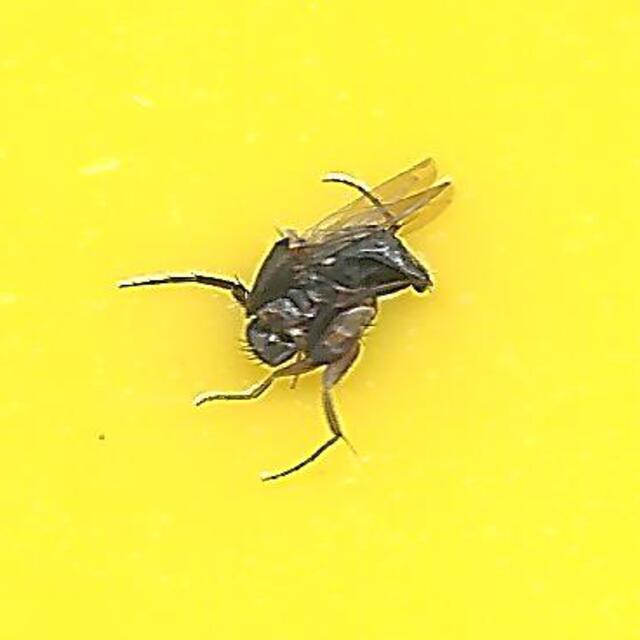Brachycera: (174, 153, 466, 487)
